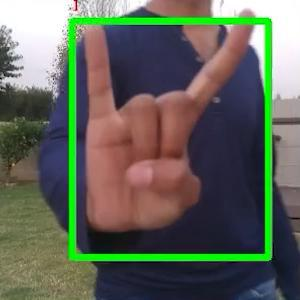takeoff-hand: (78, 3, 264, 243)
